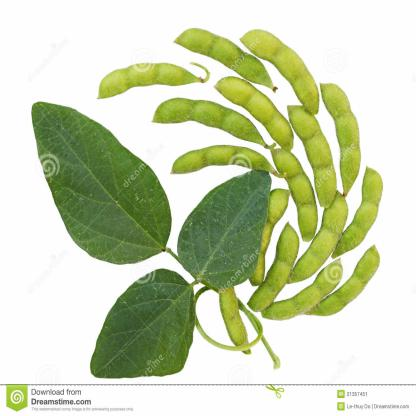soybean leaf: (28, 100, 173, 263), (86, 265, 197, 382), (177, 167, 273, 294)
